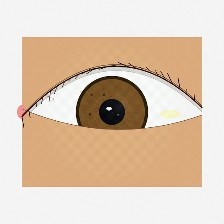pinguecula_lesion: (149, 97, 191, 131)
